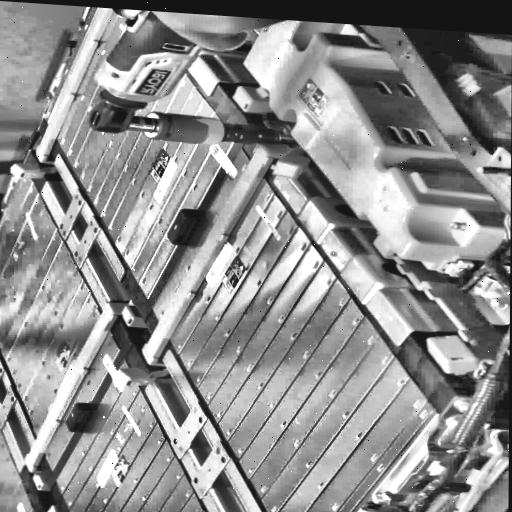battery_module: (151, 150, 435, 512), (44, 7, 232, 299), (0, 167, 120, 469), (56, 360, 207, 512)
busbar: (110, 142, 307, 386), (22, 298, 146, 490), (9, 6, 116, 178)
